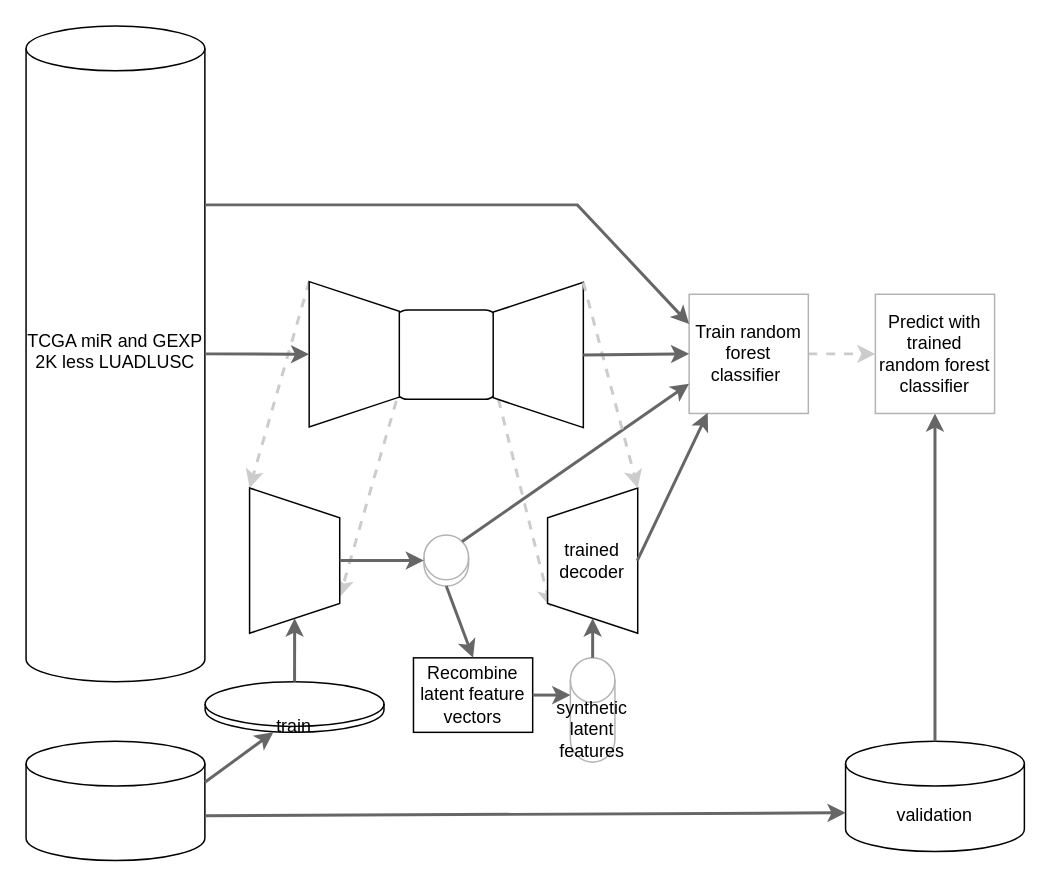
This 1050x887 diagram has some shape labels left out. Here are the shapes that lost their labels. From the top down, the centre of each, then its label:
At pixel 445 353: "VAE training".
At pixel 294 559: "trained encoder".
At pixel 445 560: "latent features".
At pixel 115 800: "LUADLUSC".
